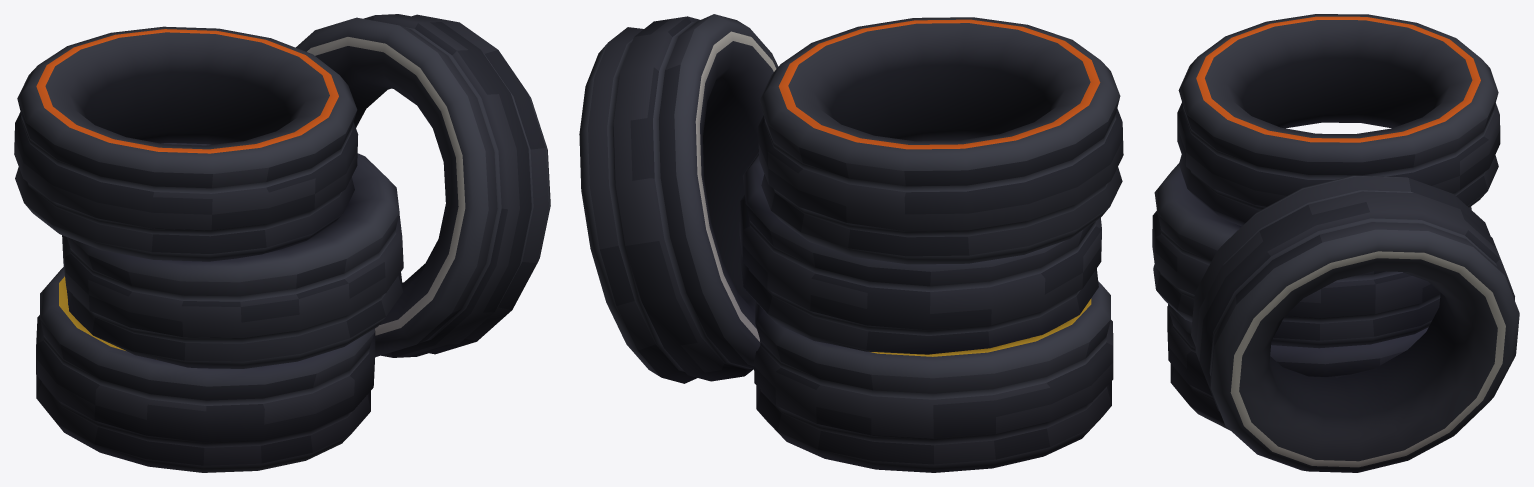
The model's file is pile_pneus.glb.
3 views of the same model, side by side, from view 1: azimuth 30°, elevation 25°; view 2: azimuth 150°, elevation 25°; view 3: azimuth 270°, elevation 25° (orthographic). The views are drawn at different scales.
Visible parts, largest first — view 1: pile_pneus; view 2: pile_pneus; view 3: pile_pneus.
Part boxes in pixels (bbox=[...]): pile_pneus: bbox=[14, 14, 550, 472]; pile_pneus: bbox=[579, 14, 1123, 472]; pile_pneus: bbox=[1152, 14, 1519, 472].
Size of the model in its own units: 1.06 by 0.7064 by 0.7742.
